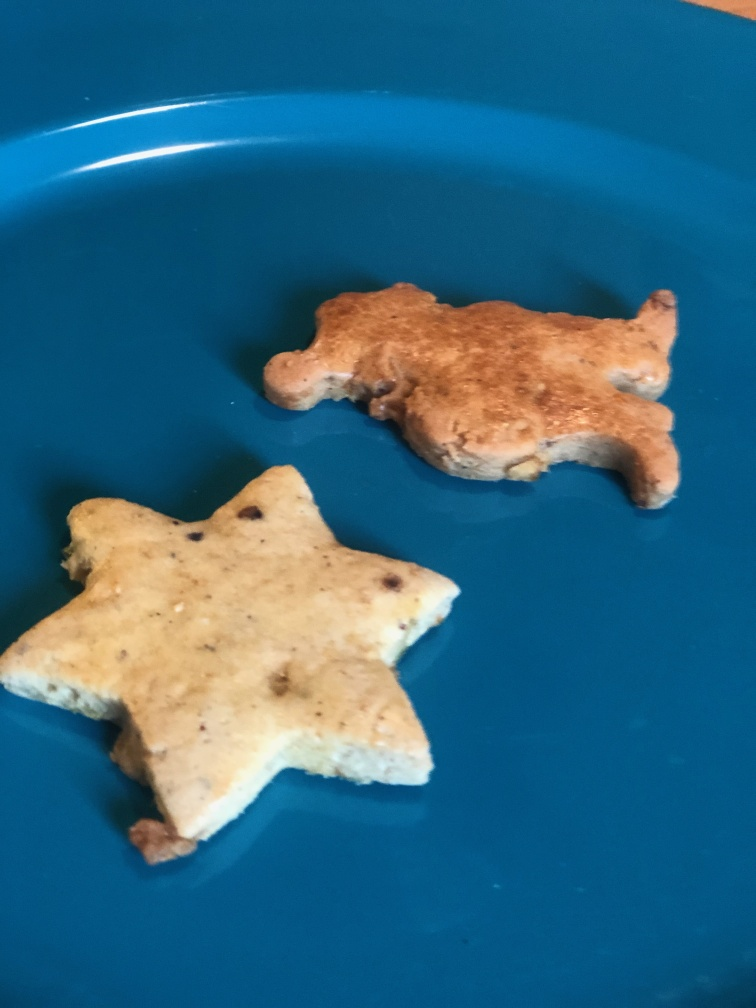santa claus: (254, 273, 685, 514)
star: (1, 464, 465, 840)
